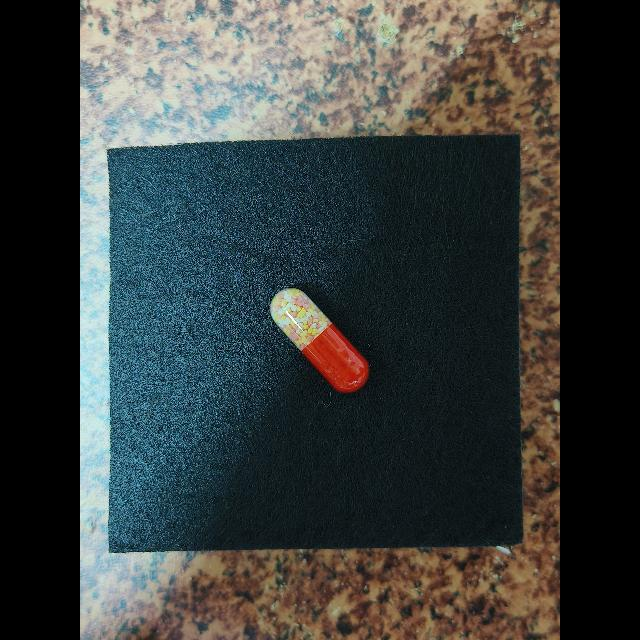Intact Capsule: (270, 288, 370, 393)
